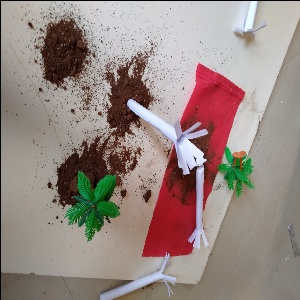plant: (59, 162, 132, 243), (215, 142, 256, 199)
weed: (125, 93, 205, 167), (88, 252, 186, 300), (188, 164, 221, 256), (240, 13, 274, 42)
